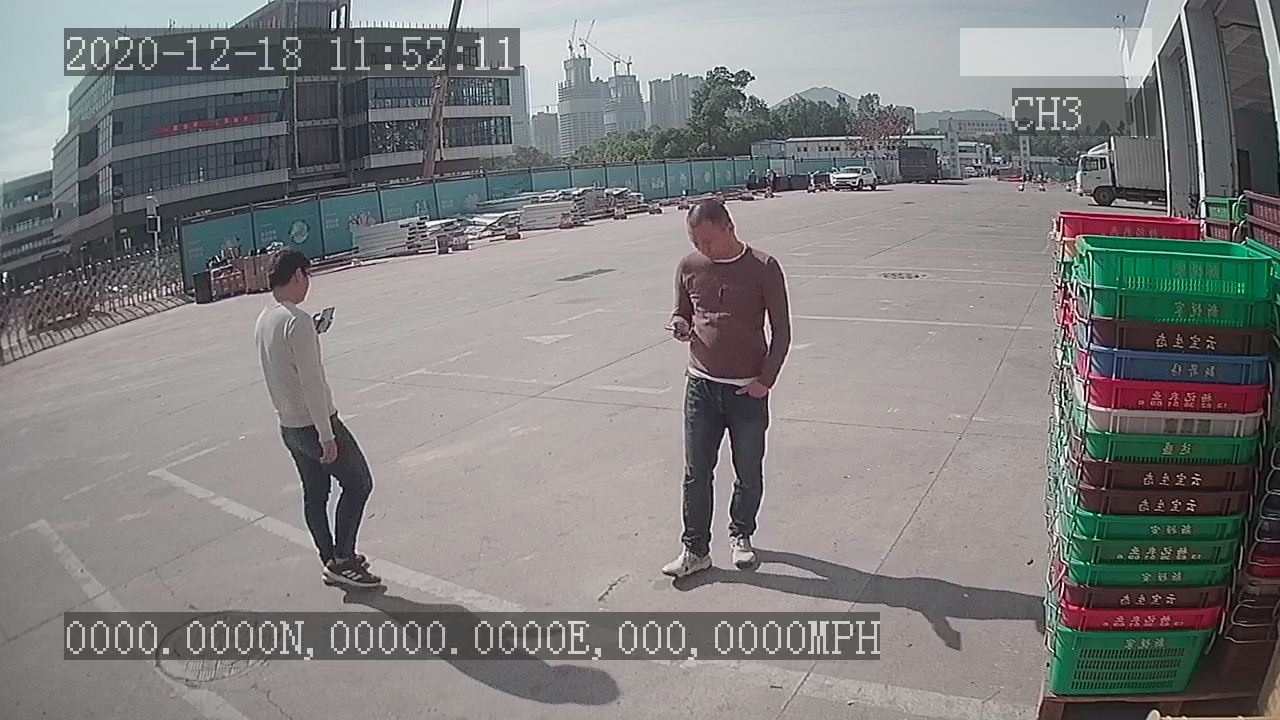person: (656, 195, 802, 588), (242, 240, 390, 597)
